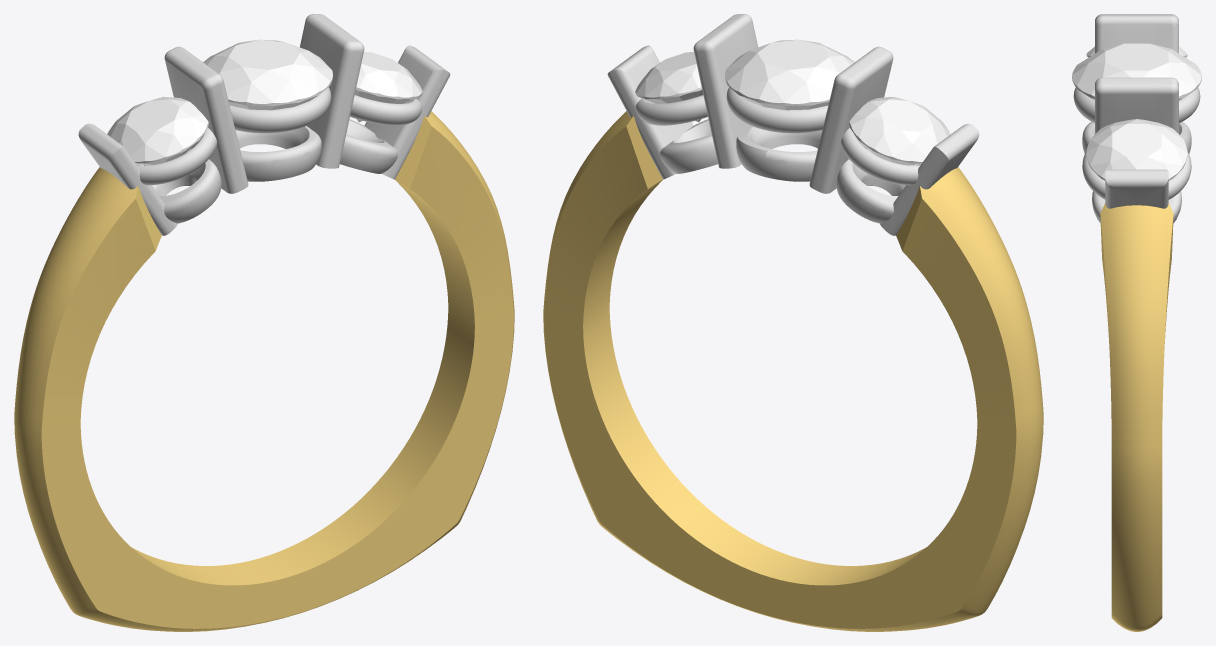
The model's file is Casia_WebGI.glb.
The picture shows the model from 3 angles, left to right: view 1: azimuth 30°, elevation 25°; view 2: azimuth 150°, elevation 25°; view 3: azimuth 270°, elevation 25°; orthographic projection. The views are drawn at different scales.
Visible parts, largest first — view 1: YG_shank_for_3d_model, PT_head_for_3d_model, ameythst_for_3d_model, diamonds_for_3d_model001, diamonds_for_3d_model002; view 2: YG_shank_for_3d_model, PT_head_for_3d_model, ameythst_for_3d_model, diamonds_for_3d_model001, diamonds_for_3d_model002; view 3: YG_shank_for_3d_model, PT_head_for_3d_model, diamonds_for_3d_model002, ameythst_for_3d_model.
Part boxes in pixels (x1,y1,x2,y2): YG_shank_for_3d_model: (14,111,514,631); PT_head_for_3d_model: (78,14,450,235); ameythst_for_3d_model: (203,39,332,110); diamonds_for_3d_model001: (107,96,208,165); diamonds_for_3d_model002: (354,51,422,122); YG_shank_for_3d_model: (543,111,1043,631); PT_head_for_3d_model: (607,14,979,235); ameythst_for_3d_model: (725,39,854,110); diamonds_for_3d_model001: (849,96,950,165); diamonds_for_3d_model002: (635,51,703,122); YG_shank_for_3d_model: (1100,203,1173,631); PT_head_for_3d_model: (1073,14,1200,223); diamonds_for_3d_model002: (1086,119,1187,180); ameythst_for_3d_model: (1072,43,1201,100).
Bounding box in the file's own units: 2.63 × 2.94 × 0.6362.
